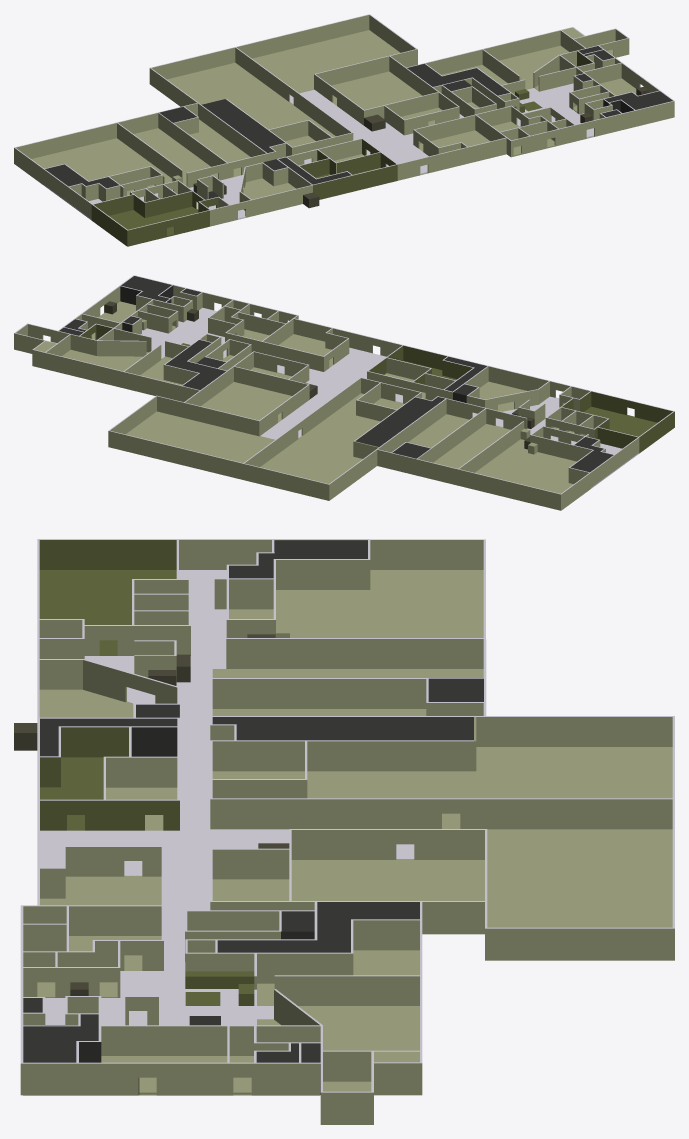
Rendered from 1_floor.glb.
3 renders of one model, top to bottom at view 1: azimuth 30°, elevation 25°; view 2: azimuth 150°, elevation 25°; view 3: azimuth 270°, elevation 25°, orthographic. The views are drawn at different scales.
Visible parts, largest first — view 1: Group014, Line017, Box190, Group026, Box263, Box170, Box191, Box196, Line025, Box280, Box262, Line062 (+54 smaller); view 2: Group014, Line017, Box190, Box280, Box191, Line025, Box196, Box173, Box193, Group026, Line062, Box170 (+63 smaller); view 3: Group014, Box190, Line017, Line025, Box276, Box196, Box247, Box254, Line037, Box170, Group026, Box184 (+59 smaller).
Boxes of the visible parts, x1=… form: Group014: x1=14, y1=14, x2=674, y2=230; Line017: x1=149, y1=62, x2=335, y2=150; Box190: x1=252, y1=30, x2=400, y2=95; Group026: x1=93, y1=51, x2=614, y2=217; Box263: x1=512, y1=101, x2=674, y2=155; Box170: x1=14, y1=138, x2=145, y2=184; Box191: x1=237, y1=15, x2=369, y2=58; Box196: x1=331, y1=71, x2=422, y2=109; Line025: x1=238, y1=116, x2=428, y2=179; Box280: x1=426, y1=30, x2=560, y2=74; Box262: x1=397, y1=138, x2=506, y2=180; Line062: x1=201, y1=99, x2=284, y2=152; Group014: x1=14, y1=275, x2=674, y2=494; Line017: x1=242, y1=393, x2=403, y2=500; Box190: x1=126, y1=411, x2=274, y2=462; Box280: x1=32, y1=350, x2=199, y2=401; Box191: x1=108, y1=431, x2=242, y2=479; Line025: x1=296, y1=347, x2=477, y2=416; Box196: x1=201, y1=382, x2=291, y2=422; Box173: x1=458, y1=469, x2=561, y2=510; Box193: x1=157, y1=396, x2=259, y2=436; Group026: x1=80, y1=300, x2=609, y2=447; Line062: x1=355, y1=397, x2=444, y2=446; Box170: x1=457, y1=463, x2=590, y2=510; Group014: x1=20, y1=539, x2=674, y2=1092; Box190: x1=487, y1=829, x2=673, y2=960; Line017: x1=212, y1=747, x2=672, y2=828; Line025: x1=40, y1=717, x2=289, y2=885; Box276: x1=23, y1=1063, x2=320, y2=1095; Box196: x1=291, y1=859, x2=484, y2=934; Box247: x1=210, y1=799, x2=486, y2=829; Box254: x1=212, y1=741, x2=474, y2=771; Line037: x1=45, y1=885, x2=273, y2=1025; Box170: x1=368, y1=570, x2=483, y2=637; Group026: x1=61, y1=716, x2=476, y2=1055; Box184: x1=212, y1=679, x2=426, y2=708.
Bounding box in the file's own units: 166418 × 4501 × 83980.
